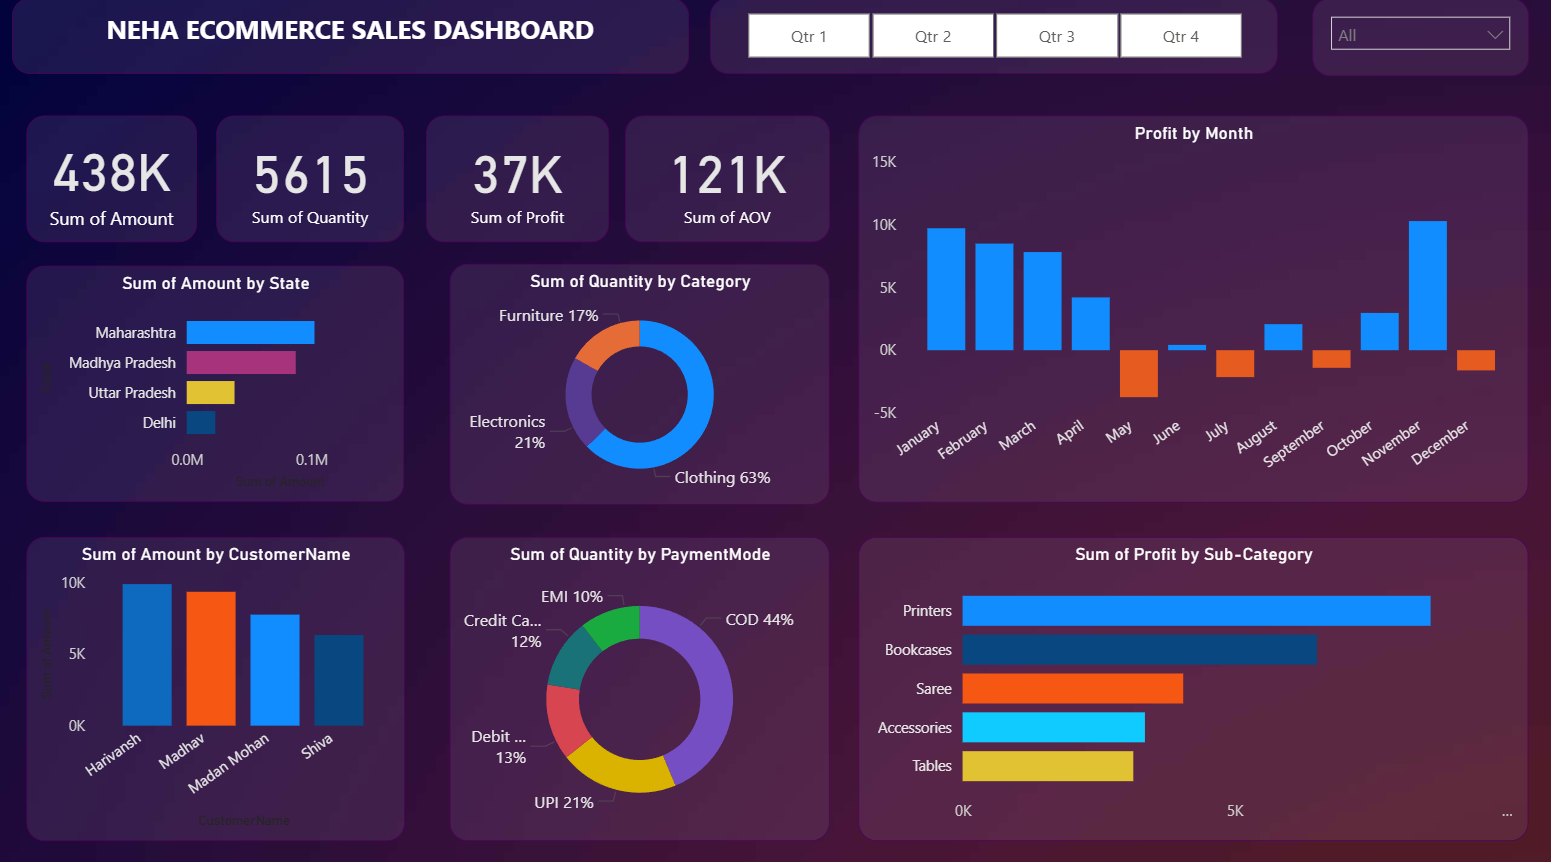

Layout of this report page (visuals, bound fields, positions):
{"tool":"powerbi","page":{"name":"Page 1","canvas":[1280,720],"ordinal":0},"visuals":[{"type":"textbox","box":[10.1,0,558.8,62.3],"z":0},{"type":"columnChart","title":"Profit by Month","fields":{"Y":["Sum(Details.Profit)"],"Category":["Orders.Order Date.Variation.Date Hierarchy.Month"]},"box":[709.6,96.5,552.8,319.6],"z":1000},{"type":"barChart","fields":{"Category":["Details.Sub-Category"],"Y":["Sum(Details.Profit)"]},"box":[709.6,444.2,552.8,251.3],"z":2000},{"type":"donutChart","fields":{"Category":["Details.Category"],"Y":["Sum(Details.Quantity)"]},"box":[371.9,219.1,313.6,199],"z":3000},{"type":"donutChart","fields":{"Category":["Details.PaymentMode"],"Y":["Sum(Details.Quantity)"]},"box":[371.9,444.2,313.6,251.3],"z":4000},{"type":"card","fields":{"Values":["Sum(Details.Amount)"]},"box":[22.1,96.5,140.7,104.5],"z":5000},{"type":"card","fields":{"Values":["Sum(Details.Quantity)"]},"box":[178.9,96.5,154.8,104.5],"z":6000},{"type":"card","fields":{"Values":["Sum(Details.Profit)"]},"box":[351.8,96.5,150.8,104.5],"z":7000},{"type":"card","fields":{"Values":["Sum(Details.AOV)"]},"box":[516.6,96.5,168.9,104.5],"z":8000},{"type":"barChart","fields":{"Category":["Orders.State"],"Y":["Sum(Details.Amount)"]},"box":[22.1,221.1,311.6,195],"z":9000},{"type":"columnChart","fields":{"Category":["Orders.CustomerName"],"Y":["Sum(Details.Amount)"]},"box":[22,445,312,251],"z":10000},{"type":"slicer","fields":{"Values":["Orders.Order Date.Variation.Date Hierarchy.Quarter"]},"box":[587,0,468.4,62.3],"z":11000},{"type":"slicer","fields":{"Values":["Orders.State"]},"box":[1083.5,0,178.9,64.3],"z":12000}]}

Visuals, with their boxes in screenshot pixels (x1, y1, x2, y2), scaled from the page's 1280x720 canvas onto the 1551x862 screenshot:
textbox: {"left": 12, "top": 0, "right": 689, "bottom": 75}
"Profit by Month" columnChart: {"left": 860, "top": 116, "right": 1530, "bottom": 498}
barChart - Details.Sub-Category x Sum(Details.Profit): {"left": 860, "top": 532, "right": 1530, "bottom": 833}
donutChart - Details.Category x Sum(Details.Quantity): {"left": 451, "top": 262, "right": 831, "bottom": 501}
donutChart - Details.PaymentMode x Sum(Details.Quantity): {"left": 451, "top": 532, "right": 831, "bottom": 833}
card - Sum(Details.Amount): {"left": 27, "top": 116, "right": 197, "bottom": 241}
card - Sum(Details.Quantity): {"left": 217, "top": 116, "right": 404, "bottom": 241}
card - Sum(Details.Profit): {"left": 426, "top": 116, "right": 609, "bottom": 241}
card - Sum(Details.AOV): {"left": 626, "top": 116, "right": 831, "bottom": 241}
barChart - Orders.State x Sum(Details.Amount): {"left": 27, "top": 265, "right": 404, "bottom": 498}
columnChart - Orders.CustomerName x Sum(Details.Amount): {"left": 27, "top": 533, "right": 405, "bottom": 833}
slicer - Orders.Order Date.Variation.Date Hierarchy.Quarter: {"left": 711, "top": 0, "right": 1279, "bottom": 75}
slicer - Orders.State: {"left": 1313, "top": 0, "right": 1530, "bottom": 77}
